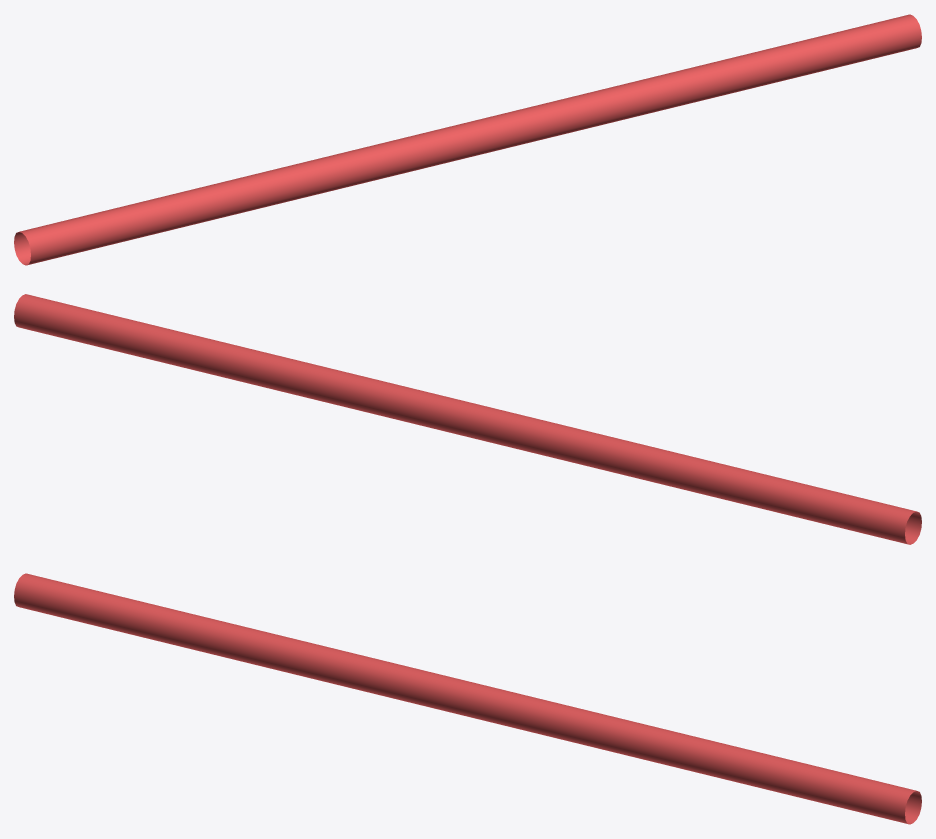
Rendered from rna_strand.fbx.
The picture shows the model from 3 angles, top to bottom: view 1: azimuth 30°, elevation 25°; view 2: azimuth 150°, elevation 25°; view 3: azimuth 330°, elevation 25°; orthographic projection.
Parts seen in each view (by area): view 1: Plane.005; view 2: Plane.005; view 3: Plane.005.
Boxes of the visible parts, x1=… form: Plane.005: x1=14, y1=14, x2=921, y2=265; Plane.005: x1=14, y1=294, x2=921, y2=544; Plane.005: x1=14, y1=573, x2=921, y2=824.
Bounding box in the file's own units: 64.91 × 2.15 × 2.15.
